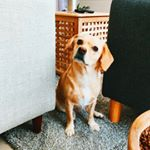puppy: (59, 31, 115, 138)
